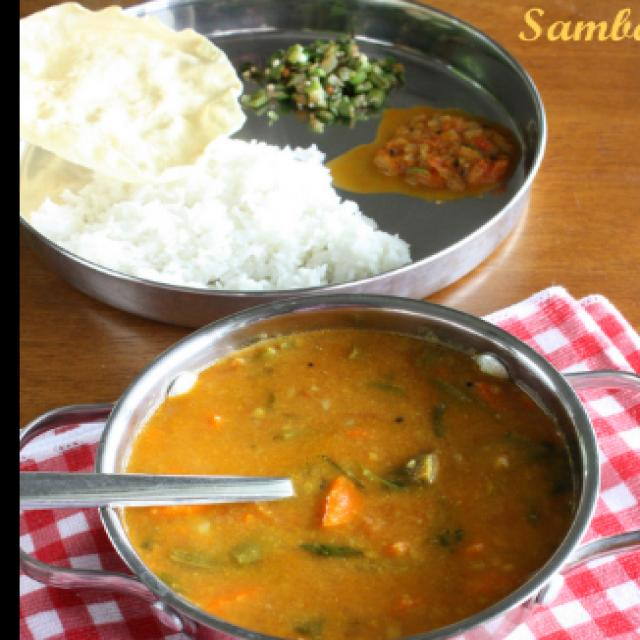sambar: (167, 340, 565, 609)
